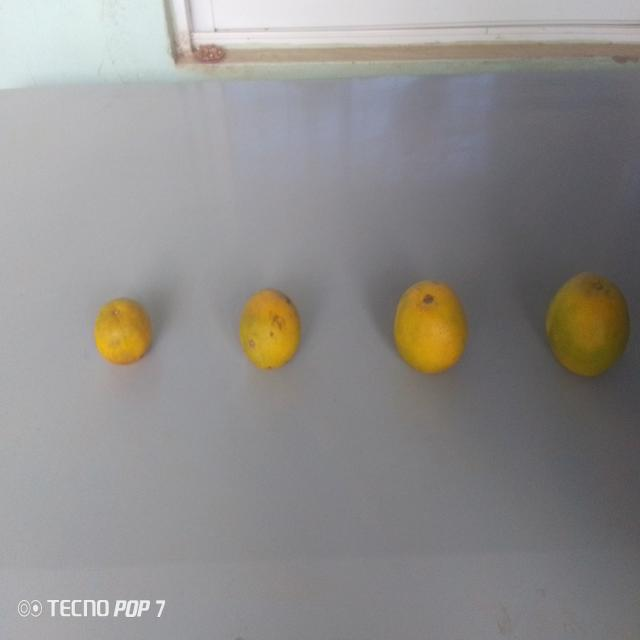Ripe orange: (543, 265, 632, 383), (386, 270, 471, 382), (229, 286, 301, 376), (86, 294, 154, 377)
